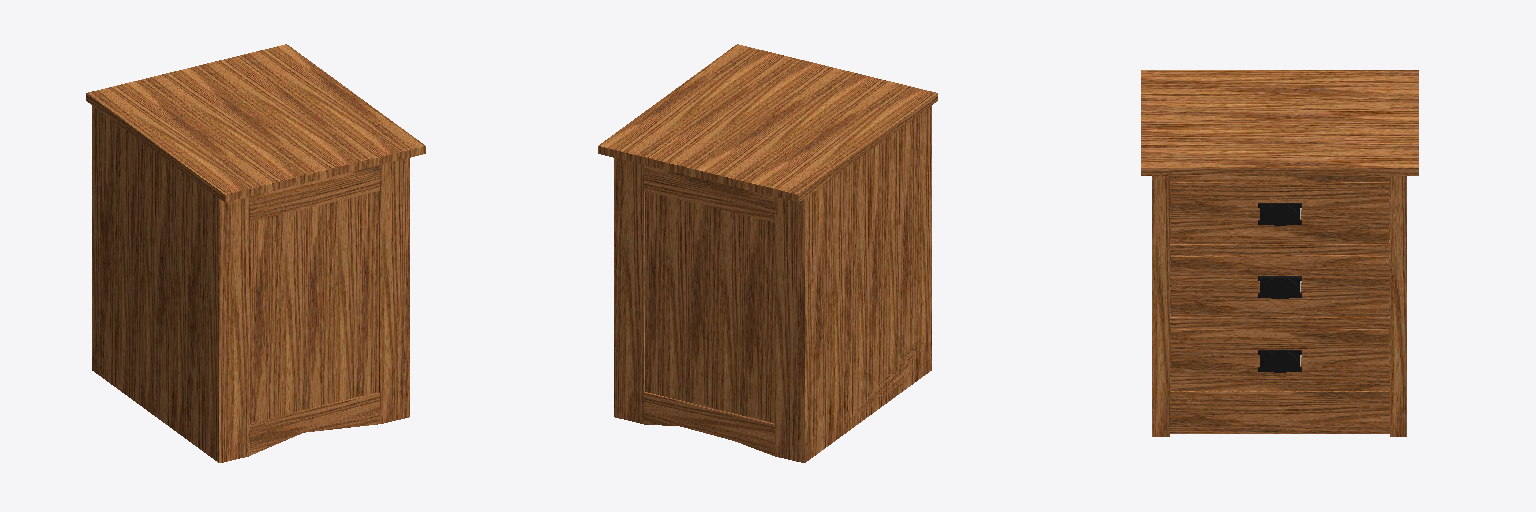
The picture shows the model from 3 angles: view 1: azimuth 30°, elevation 25°; view 2: azimuth 150°, elevation 25°; view 3: azimuth 270°, elevation 25°; orthographic projection.
Parts seen in each view (by area): view 1: Mesh5 skpFF25_1 Component_6_1 Model, Mesh4 skpFF25_1 Component_6_1 Model; view 2: Mesh5 skpFF25_1 Component_6_1 Model, Mesh4 skpFF25_1 Component_6_1 Model; view 3: Mesh5 skpFF25_1 Component_6_1 Model, Mesh4 skpFF25_1 Component_6_1 Model, Mesh2 Component_5_2 skpFF25_1 Component_6_1 Model, Mesh1 Component_5_1 skpFF25_1 Component_6_1 Model, Mesh3 Component_5_3 skpFF25_1 Component_6_1 Model.
Part boxes in pixels (x1,y1,x2,y2): Mesh5 skpFF25_1 Component_6_1 Model: (92,106,409,462); Mesh4 skpFF25_1 Component_6_1 Model: (86,44,425,202); Mesh5 skpFF25_1 Component_6_1 Model: (614,106,931,462); Mesh4 skpFF25_1 Component_6_1 Model: (598,44,937,202); Mesh5 skpFF25_1 Component_6_1 Model: (1152,176,1406,436); Mesh4 skpFF25_1 Component_6_1 Model: (1141,70,1418,175); Mesh2 Component_5_2 skpFF25_1 Component_6_1 Model: (1258,276,1301,298); Mesh1 Component_5_1 skpFF25_1 Component_6_1 Model: (1258,203,1301,225); Mesh3 Component_5_3 skpFF25_1 Component_6_1 Model: (1258,350,1301,372).
Bounding box in the file's own units: 0.508 × 0.6604 × 0.6096.
5 materials, 3 textured.